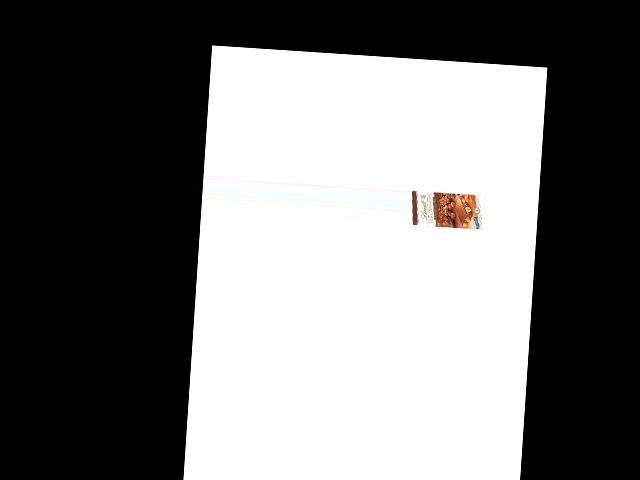chocolate: (412, 185, 482, 231)
